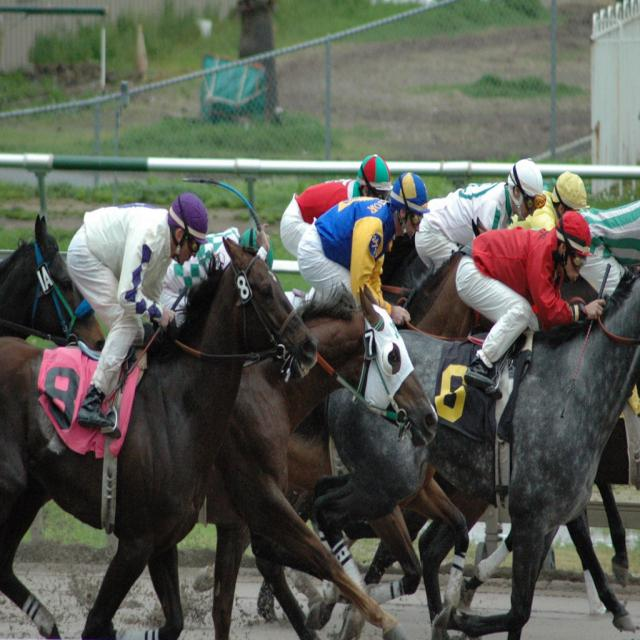Horse: (0, 213, 640, 640)
